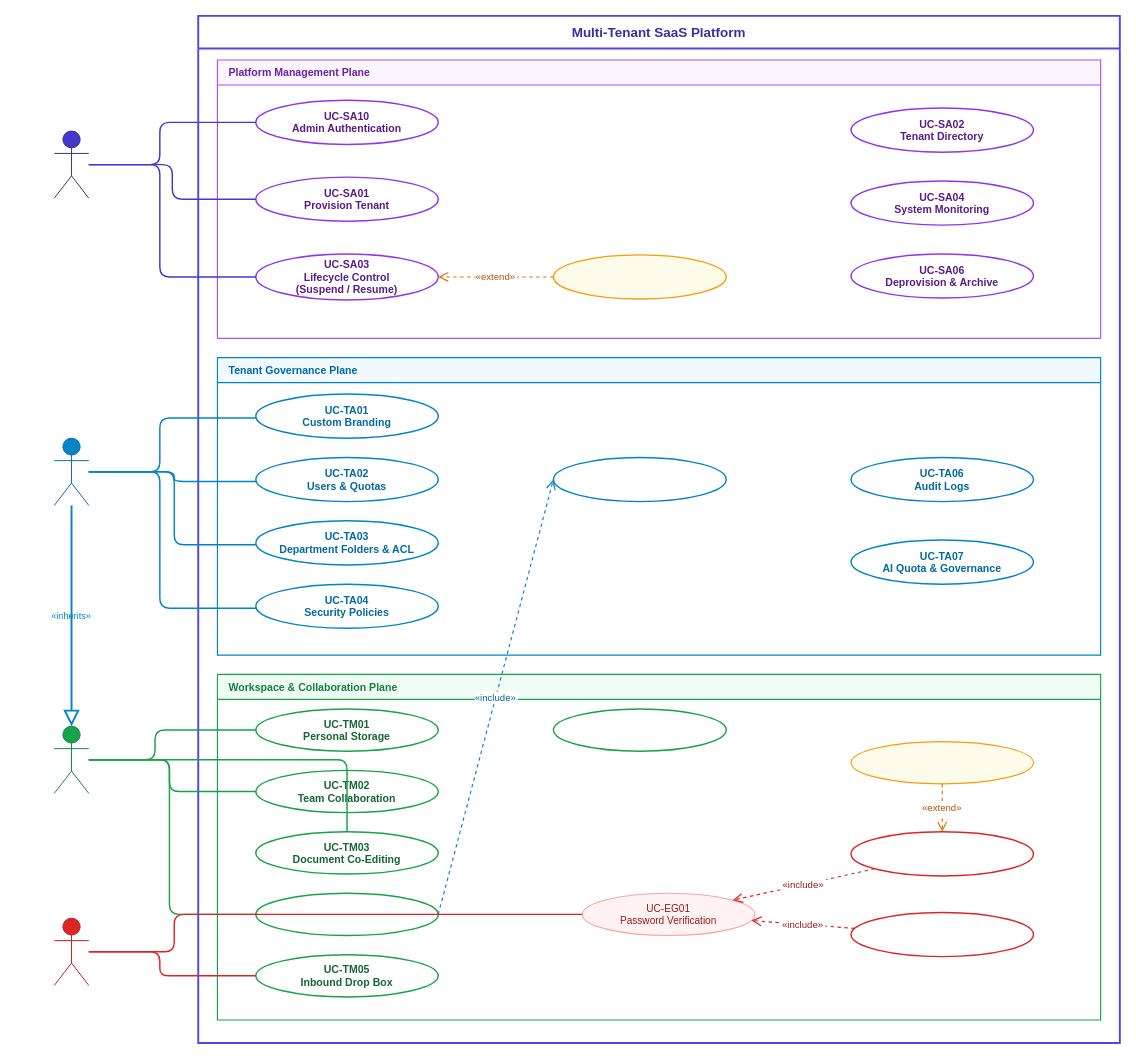
Some shapes in this 1136 by 1059 pixel diagram are drawn without their labels. Each missing label, with the centre of its shape:
External Guest: (71,951)
Platform Super Admin: (71,164)
Tenant Admin: (71,471)
Tenant Member: (71,759)
UC-EG02 Preview & Download: (942,853)
UC-EG03 Upload to Drop Box: (942,934)
UC-EG04 View AI Summary: (942,762)
UC-SA08 FinOps & Hibernation: (639,276)
UC-TA05 DLP Sharing Rules: (639,479)
UC-TM04 Share Link Creation: (347,914)
UC-TM07 AI Document Assistant: (639,729)
